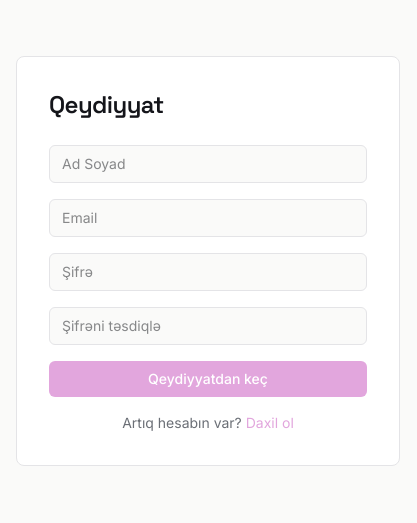
Test: Register › shows an error for a short password
The width and height of the screenshot is (417, 523).
In the password field with placeholder "Şifrə": (208, 272) [49, 253, 367, 291], type "short"
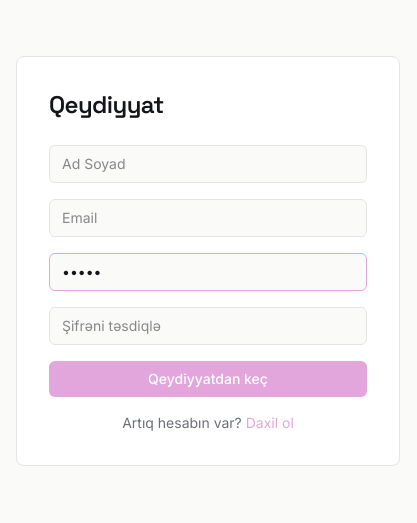
Click the button "Qeydiyyatdan keç": (208, 379) [49, 361, 367, 397]
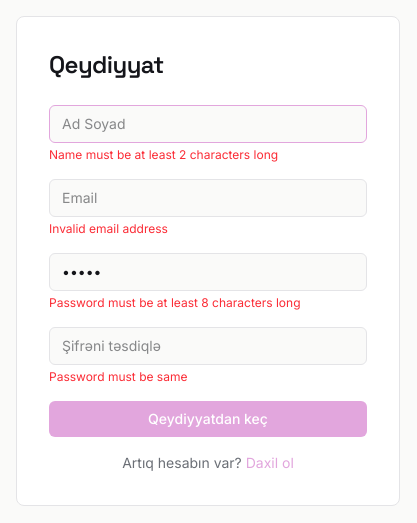
Now the text "Password must be at least 8 characters long" is shown, box [49, 295, 300, 310]
